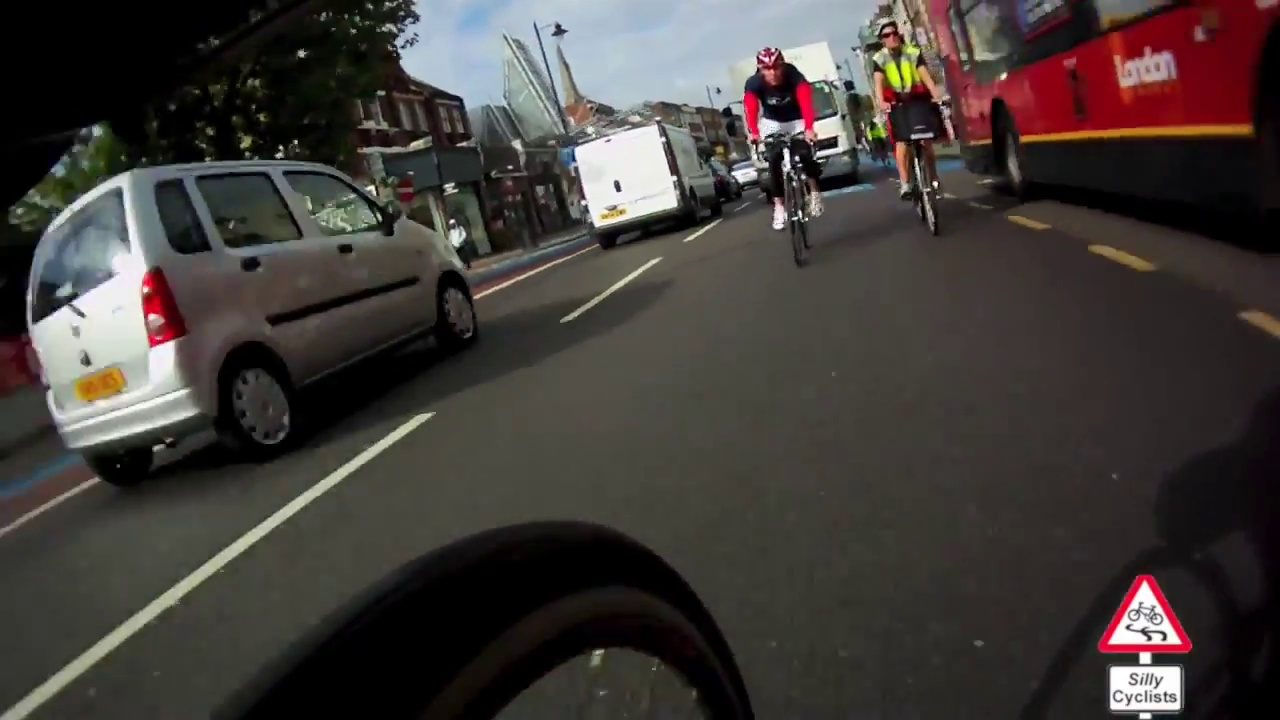cyclist_front: (862, 9, 961, 247), (737, 43, 833, 270)
